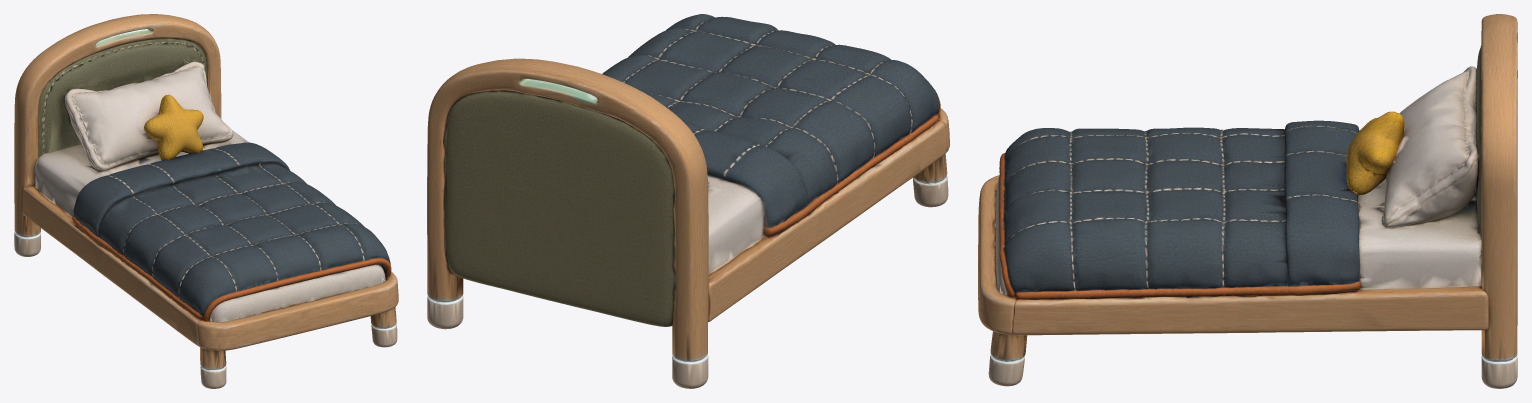
Rendered from bed.high.glb.
The picture shows the model from 3 angles, left to right: view 1: azimuth 30°, elevation 25°; view 2: azimuth 150°, elevation 25°; view 3: azimuth 270°, elevation 25°; orthographic projection. The views are drawn at different scales.
Parts seen in each view (by area): view 1: tripo_node_44f4c091-8c93-4444-b12b-0cba64eb0e09; view 2: tripo_node_44f4c091-8c93-4444-b12b-0cba64eb0e09; view 3: tripo_node_44f4c091-8c93-4444-b12b-0cba64eb0e09.
Part boxes in pixels (box(x1,y1,x2,y2)): tripo_node_44f4c091-8c93-4444-b12b-0cba64eb0e09: box(14, 14, 398, 388); tripo_node_44f4c091-8c93-4444-b12b-0cba64eb0e09: box(427, 14, 949, 388); tripo_node_44f4c091-8c93-4444-b12b-0cba64eb0e09: box(978, 14, 1517, 388).
Bounding box in the file's own units: 1.18 × 1.17 × 2.
Materials: 1 (1 with a texture image).
